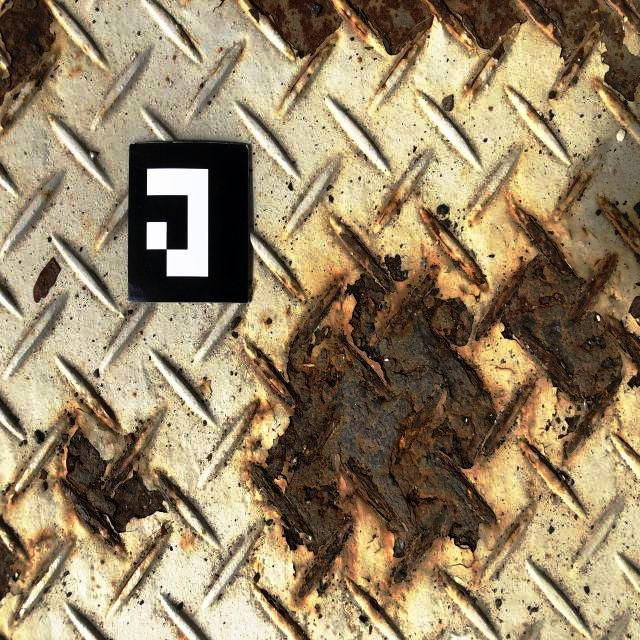Corrosion: (248, 227, 498, 599), (476, 199, 640, 459), (349, 0, 640, 98), (59, 407, 185, 549), (0, 0, 61, 104), (420, 207, 490, 290), (250, 0, 341, 55), (482, 383, 536, 457), (598, 194, 640, 254), (117, 540, 158, 600), (528, 442, 568, 483), (240, 400, 276, 436), (609, 0, 640, 35), (556, 403, 582, 443), (338, 6, 367, 39), (0, 540, 15, 601), (259, 587, 286, 620), (28, 530, 51, 565), (565, 172, 591, 200), (275, 269, 301, 295), (380, 194, 403, 220), (503, 521, 520, 549), (363, 595, 383, 615), (96, 399, 112, 423), (625, 368, 640, 391), (632, 198, 640, 224), (455, 584, 467, 600)
